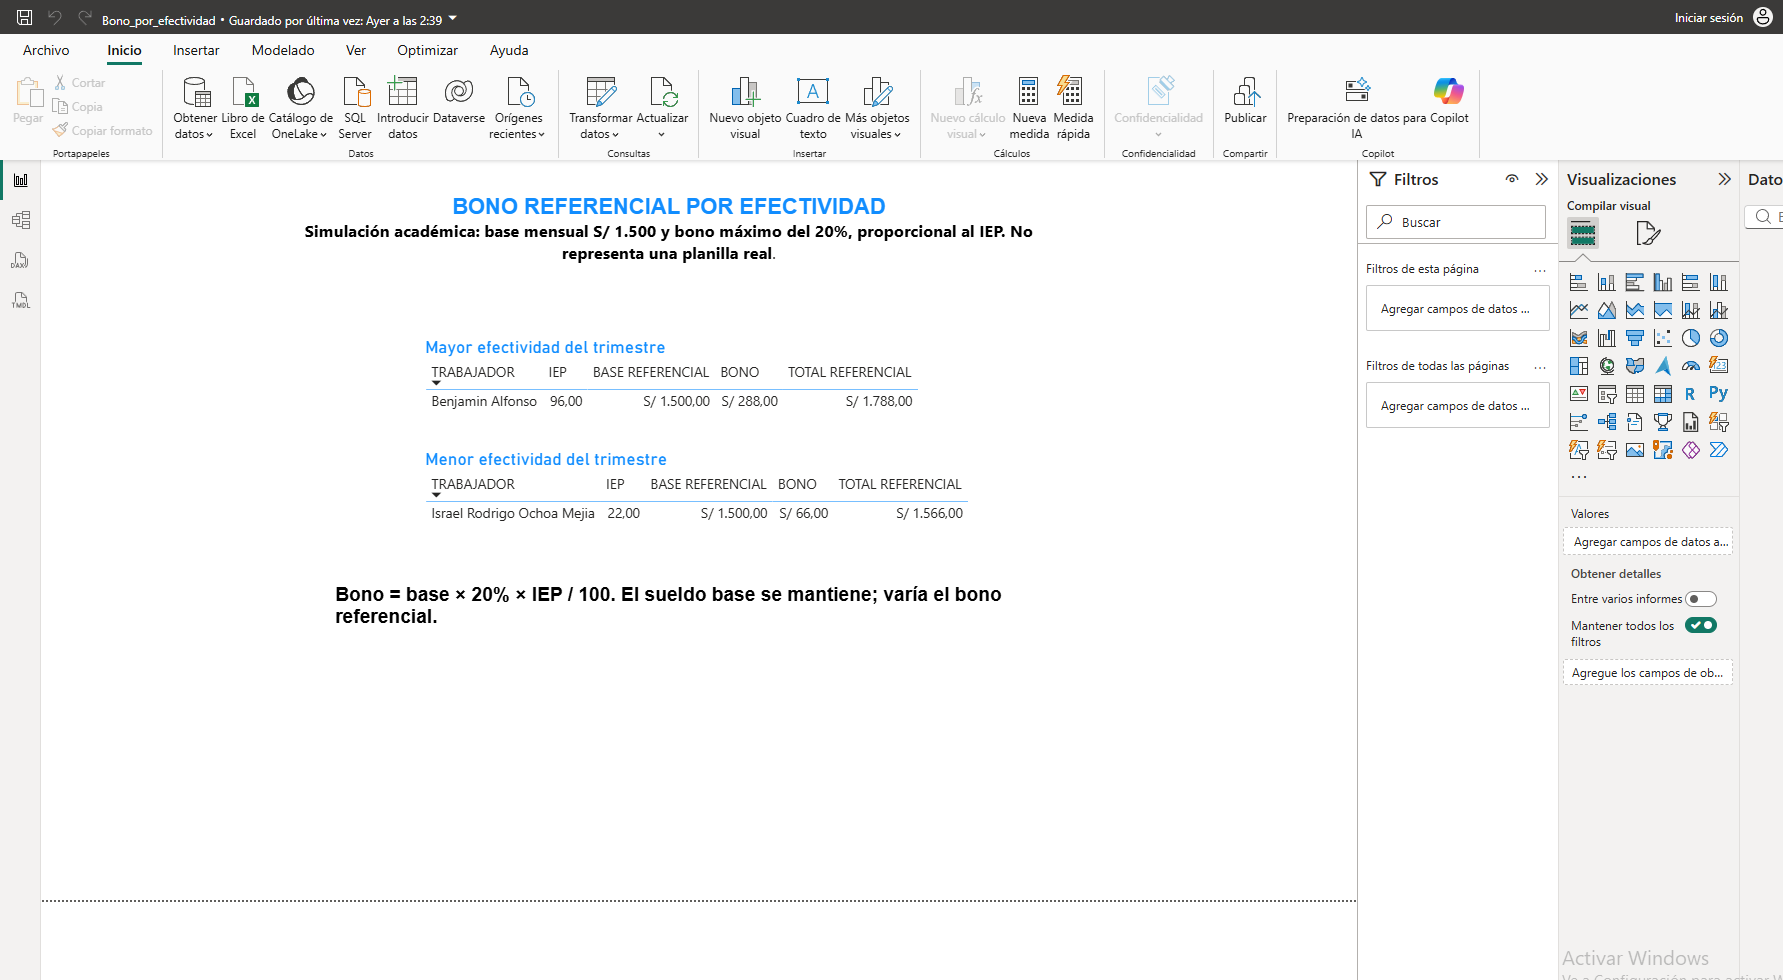

Layout of this report page (visuals, bound fields, positions):
{"tool":"powerbi","page":{"name":"Bono por efectividad","canvas":[1280,720],"ordinal":1},"visuals":[{"type":"textbox","box":[241,28.3,739,86.1],"z":0},{"type":"tableEx","title":"Mayor efectividad del trimestre","fields":{"Values":["vw_dim_trabajador.nombre_completo","vw_rendimiento_kpis.IEP","vw_rendimiento_kpis.Sueldo base referencial","vw_rendimiento_kpis.Bono referencial","vw_rendimiento_kpis.Remuneracion referencial"]},"box":[368.9,172.1,542.2,84.8],"z":1000},{"type":"tableEx","title":"Menor efectividad del trimestre","fields":{"Values":["vw_dim_trabajador.nombre_completo","vw_rendimiento_kpis.IEP","vw_rendimiento_kpis.Sueldo base referencial","vw_rendimiento_kpis.Bono referencial","vw_rendimiento_kpis.Remuneracion referencial"]},"box":[368.9,281.6,542.2,87.3],"z":2000},{"type":"textbox","box":[281.6,407,698.4,62.7],"z":3000}]}

Visuals, with their boxes on the page's 1280x720 design canvas (x1, y1, x2, y2). These are canvas units, not pixel positions in the 1783x980 screenshot, which may show the page scaled, cropped or inside an application window:
textbox: select_region(241, 28, 980, 114)
"Mayor efectividad del trimestre" tableEx: select_region(369, 172, 911, 257)
"Menor efectividad del trimestre" tableEx: select_region(369, 282, 911, 369)
textbox: select_region(282, 407, 980, 470)
